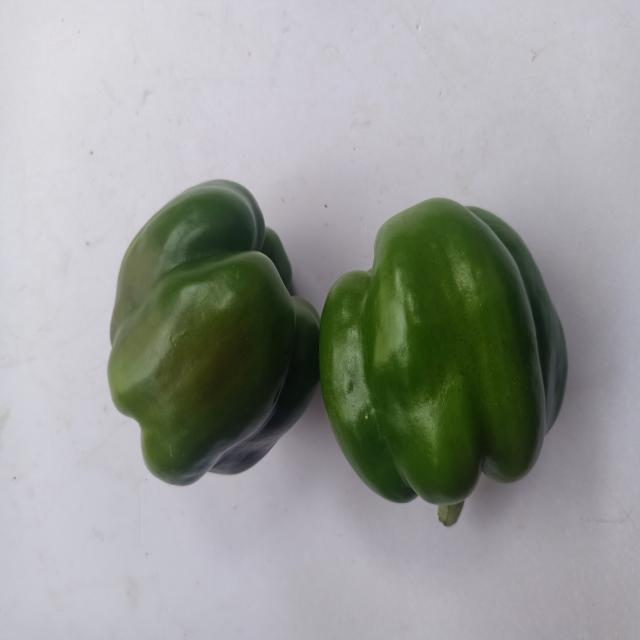Capsicum: (318, 170, 586, 553), (96, 167, 321, 505)
